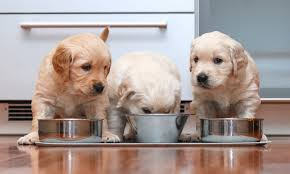dog: (42, 32, 113, 103), (184, 33, 248, 96)
